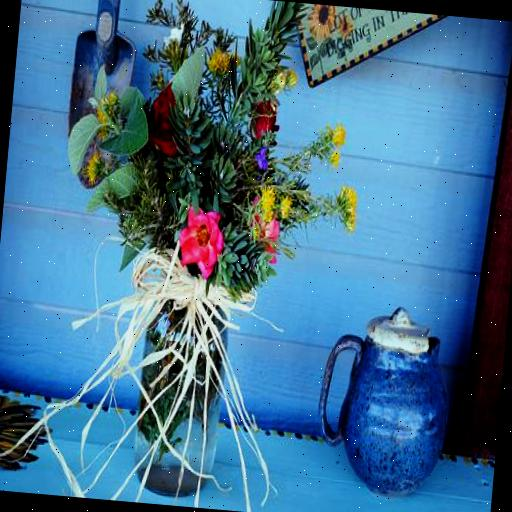rose: (176, 208, 226, 276), (280, 218, 281, 220)
